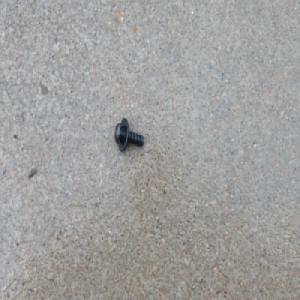BoltWasher: (113, 117, 143, 152)
